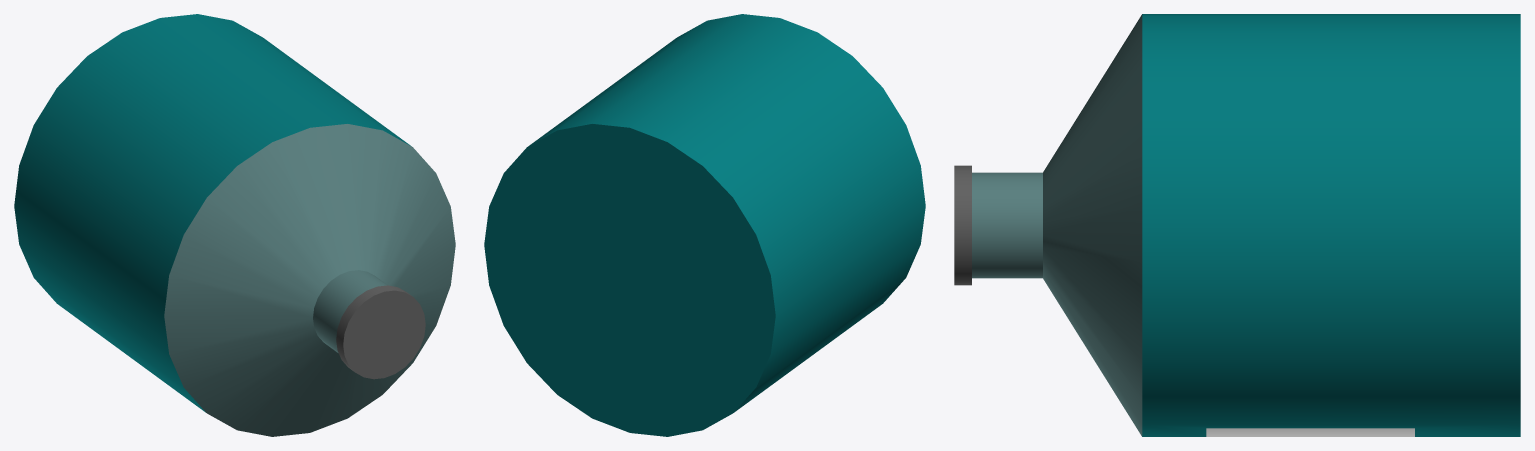
File: bottle_5.dae
The picture shows the model from 3 angles, left to right: view 1: azimuth 30°, elevation 25°; view 2: azimuth 150°, elevation 25°; view 3: azimuth 270°, elevation 25°; orthographic projection. The views are drawn at different scales.
Parts seen in each view (by area): view 1: coords_ME_ID3_MA_material_1, coords_ME_ID11_MA_material_3, coords_ME_ID19_MA__96_96_96; view 2: coords_ME_ID11_MA_material_3; view 3: coords_ME_ID11_MA_material_3, coords_ME_ID3_MA_material_1, coords_ME_ID19_MA__96_96_96, coords_ME_ID27_MA_material_4.
Part boxes in pixels (<box>): coords_ME_ID3_MA_material_1: <box>164,124,455,436</box>; coords_ME_ID11_MA_material_3: <box>14,14,411,412</box>; coords_ME_ID19_MA__96_96_96: <box>336,285,425,379</box>; coords_ME_ID11_MA_material_3: <box>484,14,925,436</box>; coords_ME_ID11_MA_material_3: <box>1142,14,1520,436</box>; coords_ME_ID3_MA_material_1: <box>972,14,1142,436</box>; coords_ME_ID19_MA__96_96_96: <box>954,165,971,285</box>; coords_ME_ID27_MA_material_4: <box>1206,428,1414,436</box>.
Size of the model in its own units: 5.95 by 5.95 by 7.94.
